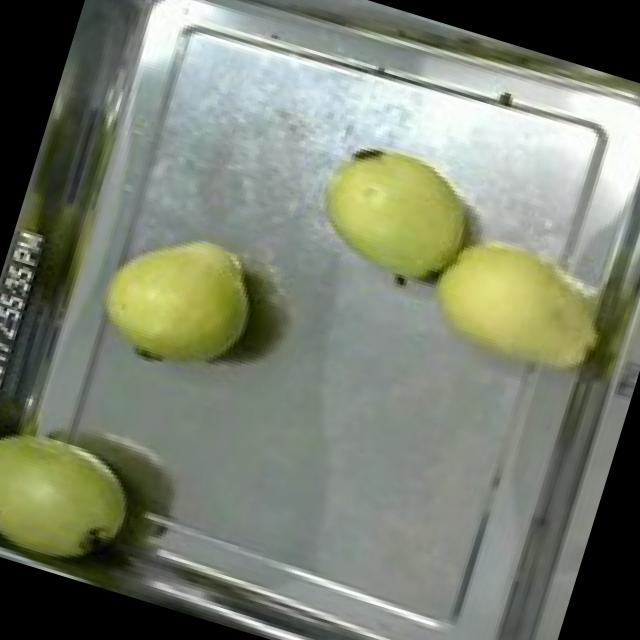Fruit: (398, 204, 626, 404), (75, 205, 276, 394), (296, 121, 494, 303), (0, 401, 151, 587)
